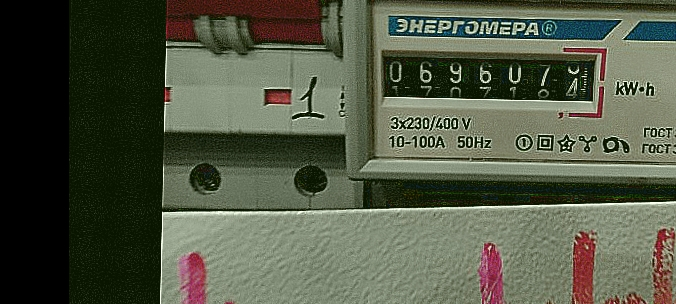0: (387, 58, 404, 83), (507, 59, 522, 84)
4: (564, 75, 580, 100)
6: (477, 59, 494, 84), (417, 59, 434, 83)
7: (537, 62, 552, 88)
9: (447, 60, 463, 84)
screen: (367, 36, 611, 115)
